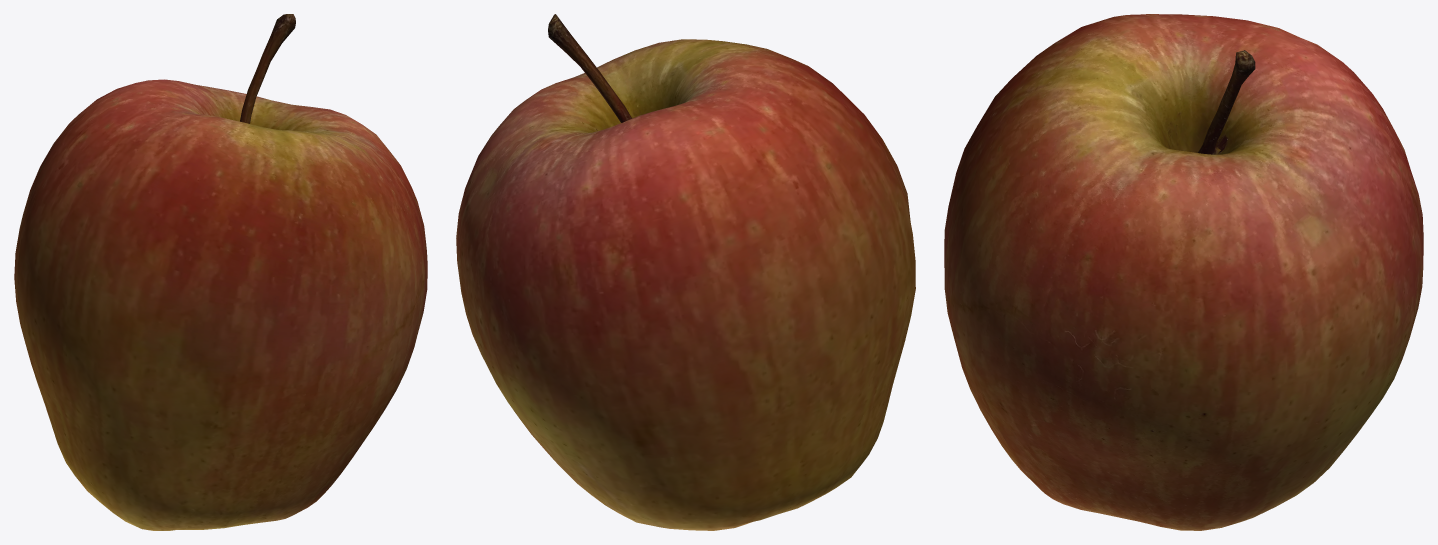
File: realapple.glb
The picture shows the model from 3 angles, left to right: view 1: azimuth 30°, elevation 25°; view 2: azimuth 150°, elevation 25°; view 3: azimuth 270°, elevation 25°; orthographic projection. The views are drawn at different scales.
Parts seen in each view (by area): view 1: Apple; view 2: Apple; view 3: Apple.
Boxes of the visible parts, x1,y1,x2,y2 form: Apple: (14, 14, 427, 530); Apple: (456, 14, 915, 530); Apple: (944, 14, 1423, 530).
Bounding box in the file's own units: 0.0699 × 0.08 × 0.0692.
Materials: 1 (1 with a texture image).
